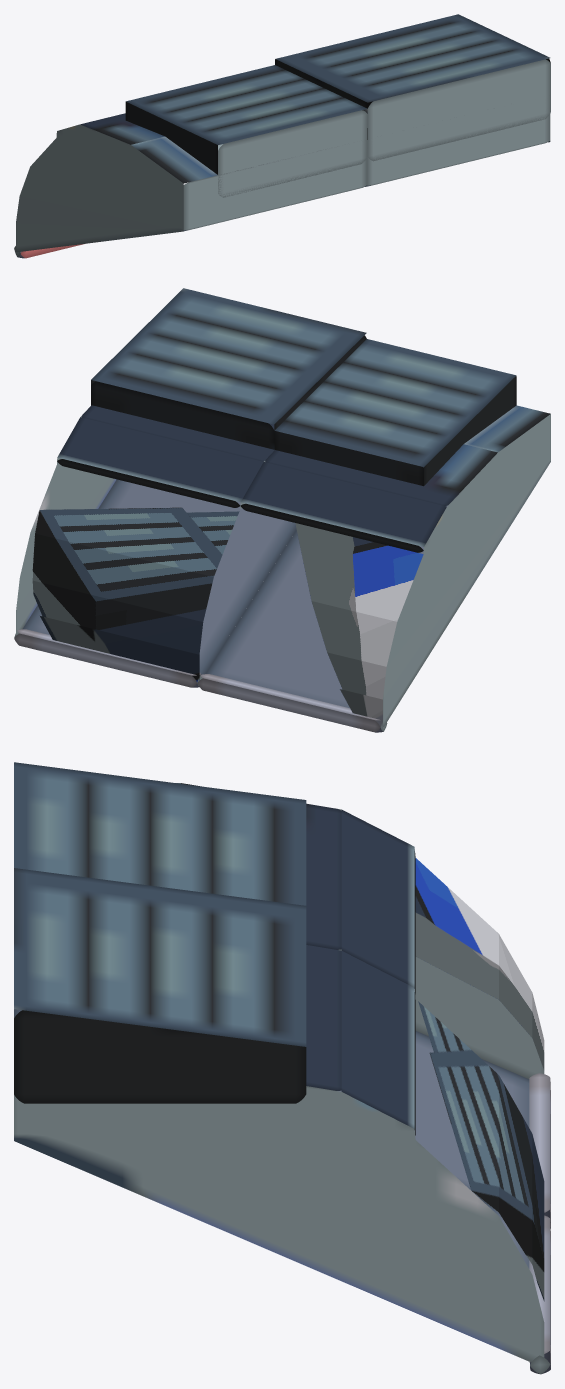
The model's file is df11g_carport_kua.obj.
The picture shows the model from 3 angles, top to bottom: view 1: azimuth 30°, elevation 25°; view 2: azimuth 150°, elevation 25°; view 3: azimuth 270°, elevation 25°; orthographic projection. The views are drawn at different scales.
Parts seen in each view (by area): view 1: cube; view 2: cube; view 3: cube.
Boxes of the visible parts, <box> form: cube: <box>14,14,550,258</box>; cube: <box>14,288,550,732</box>; cube: <box>14,762,550,1374</box>.
Size of the model in its own units: 2 by 1.21 by 1.61.
